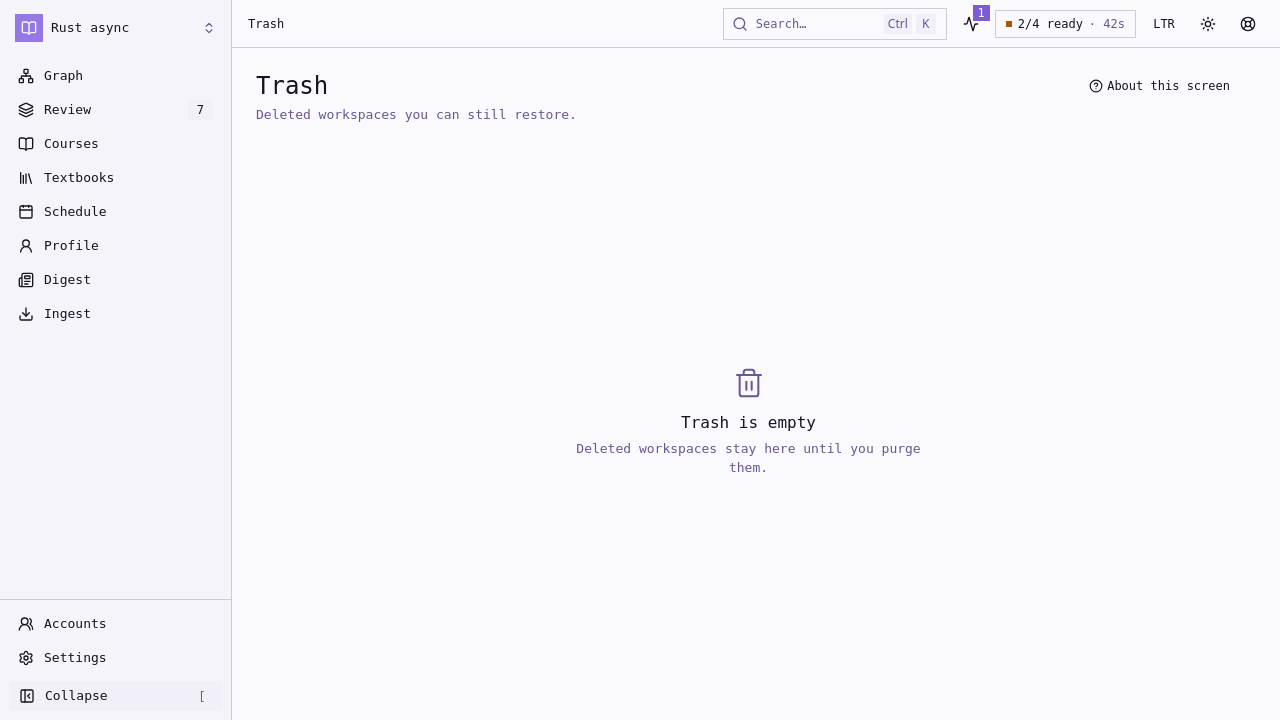
it: About this screen › /trash lists its parts
Click the button with test id "screen-guide-open": (1162, 86) x1=1082 y1=72 x2=1241 y2=100
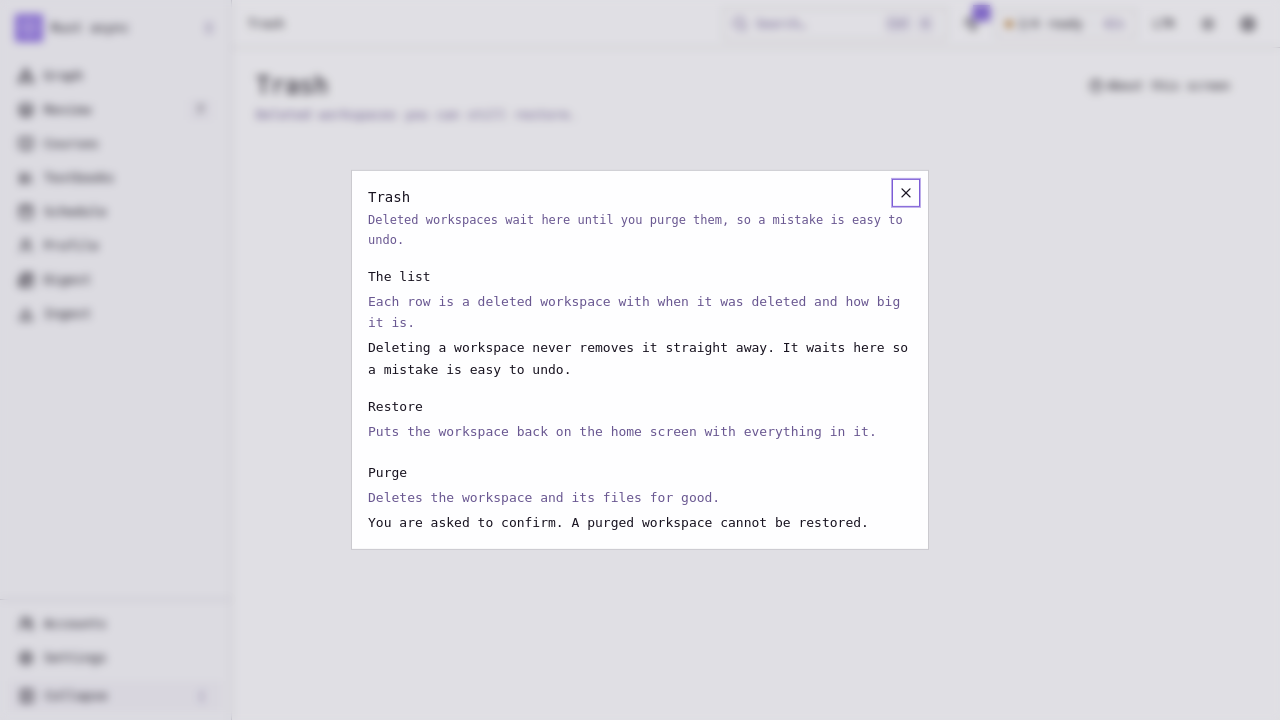
Check: the heading "Trash" is shown, box x1=368 y1=189 x2=410 y2=205
Check: the dialog with test id "screen-guide" shows "Restore", box x1=368 y1=398 x2=423 y2=414
